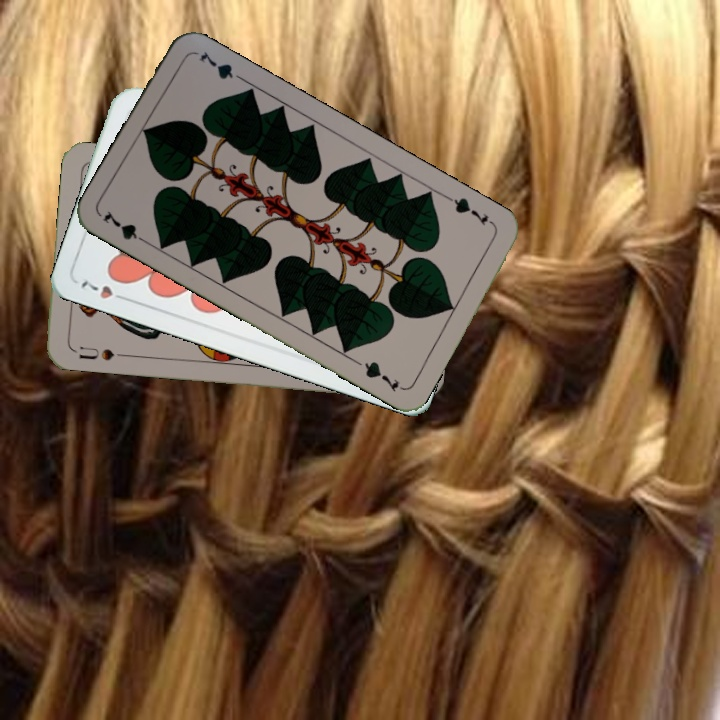G7: (98, 206, 152, 248), (444, 193, 498, 229)
H7: (77, 277, 132, 304)
SU: (75, 342, 129, 363)
